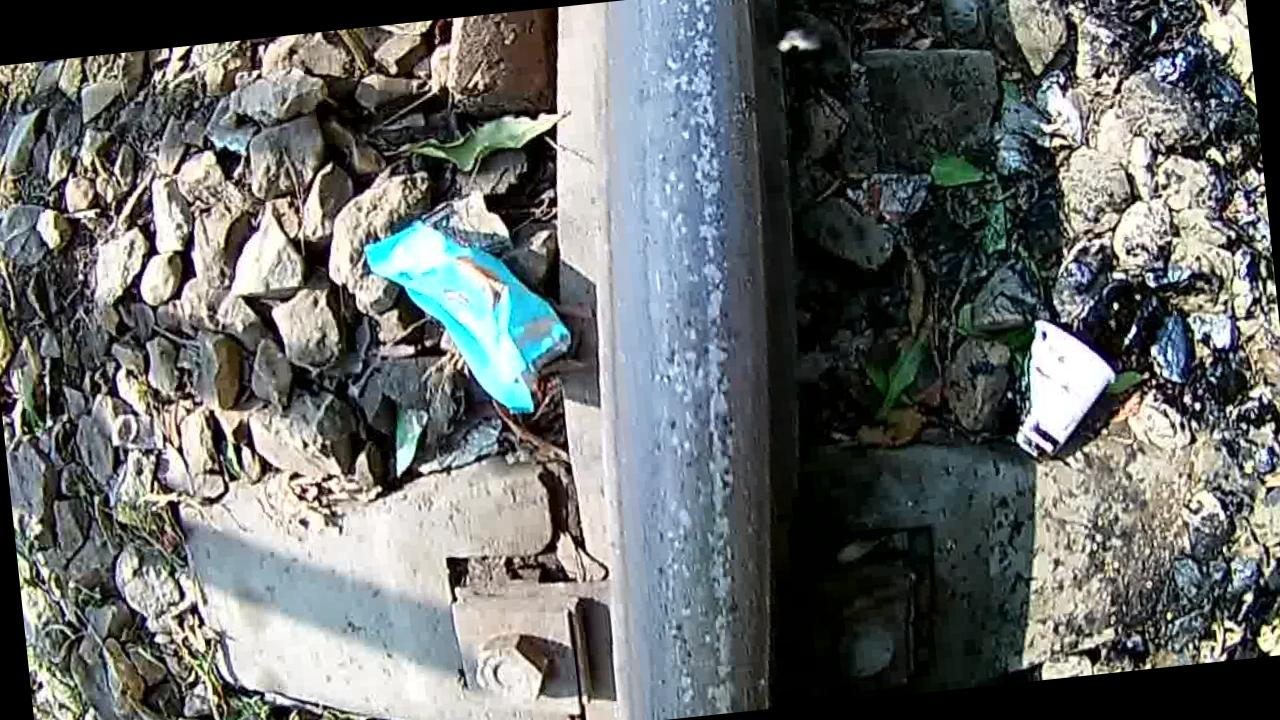clip_missing: (561, 0, 841, 720)
